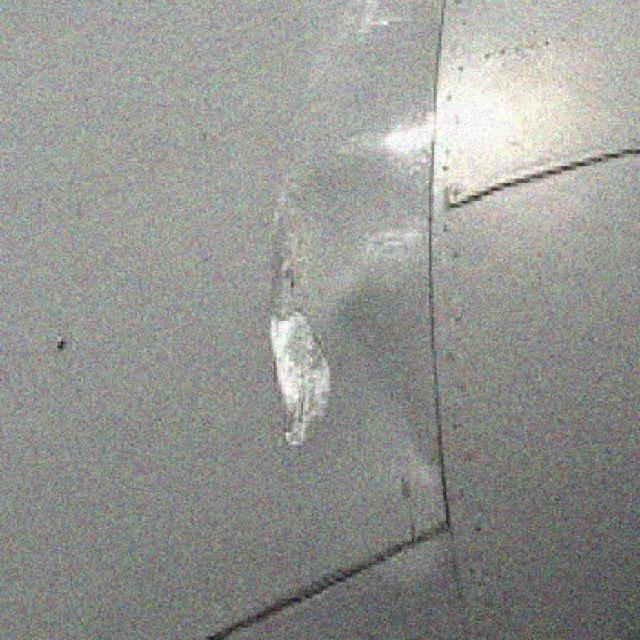dent: (352, 286, 454, 562), (256, 163, 338, 452), (318, 138, 423, 304)
